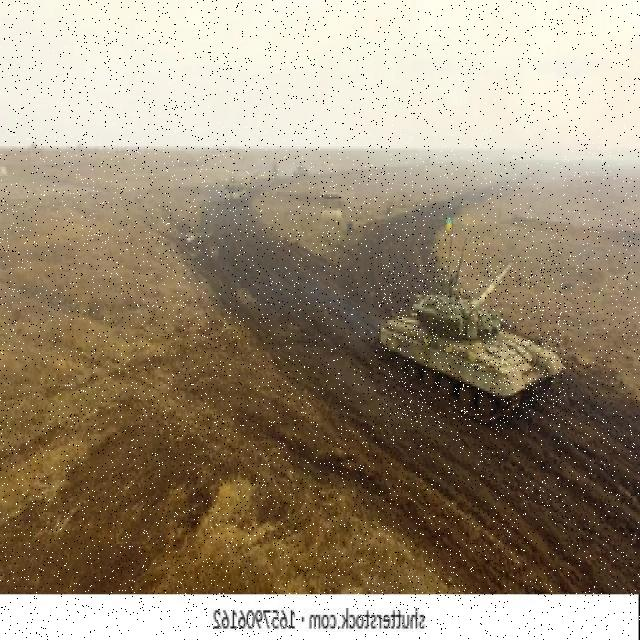MIL_MBT: (378, 260, 568, 428), (225, 164, 260, 206)
